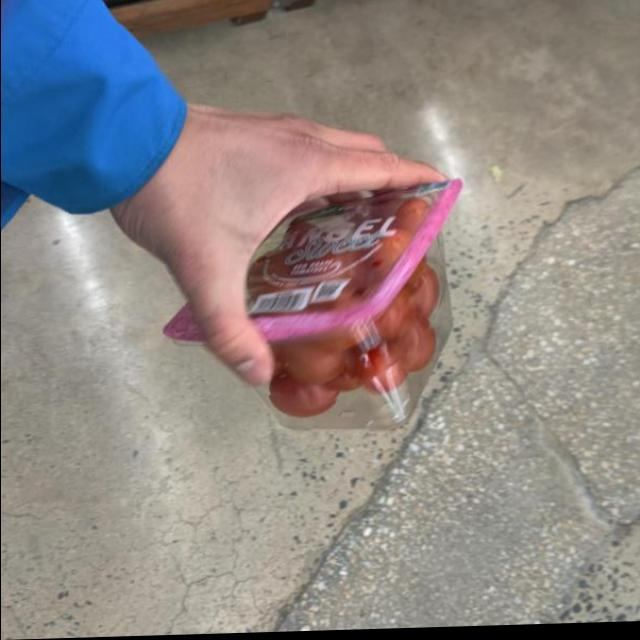Tomatoes: (174, 178, 451, 430)
